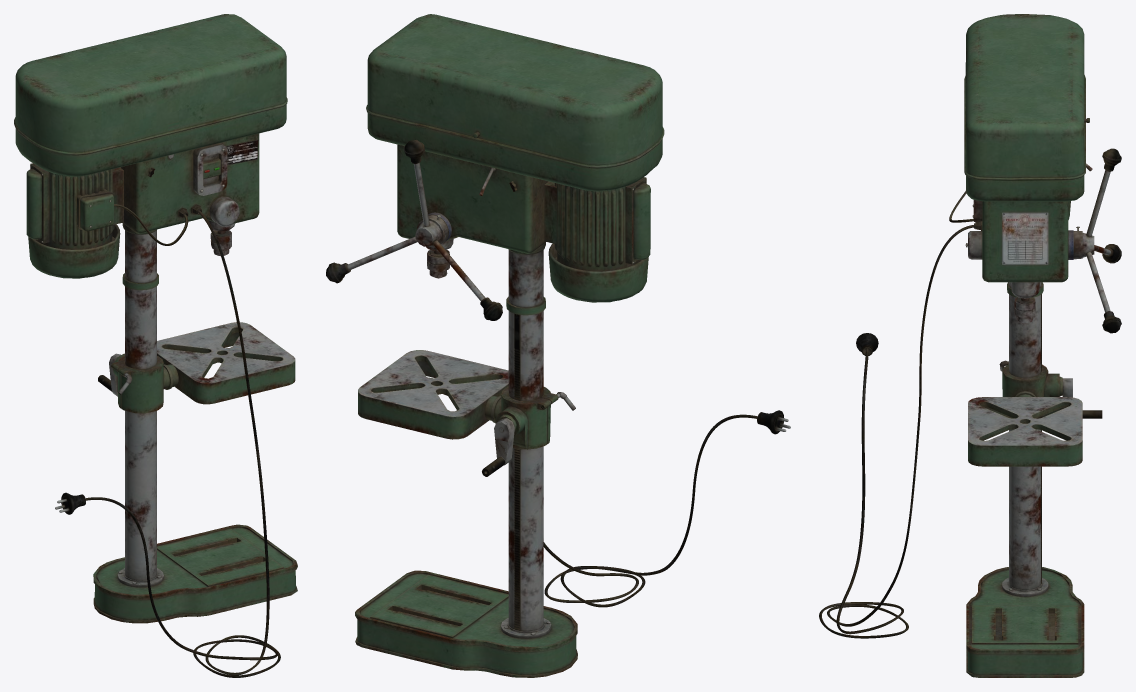
Rendered from deploy_lathe.glb.
3 renders of one model, left to right at view 1: azimuth 30°, elevation 25°; view 2: azimuth 150°, elevation 25°; view 3: azimuth 270°, elevation 25°, orthographic. The views are drawn at different scales.
Parts seen in each view (by area): view 1: old_drill_press, old_drill_press_cable; view 2: old_drill_press, old_drill_press_cable; view 3: old_drill_press, old_drill_press_cable.
Part boxes in pixels (x1=…): old_drill_press: x1=14, y1=14, x2=297, y2=623; old_drill_press_cable: x1=55, y1=204, x2=280, y2=677; old_drill_press: x1=326, y1=14, x2=664, y2=677; old_drill_press_cable: x1=543, y1=410, x2=790, y2=607; old_drill_press: x1=964, y1=14, x2=1121, y2=677; old_drill_press_cable: x1=819, y1=191, x2=973, y2=638.
Bounding box in the file's own units: 0.9284 × 1.6 × 0.8033.
Materials: 1 (1 with a texture image).
